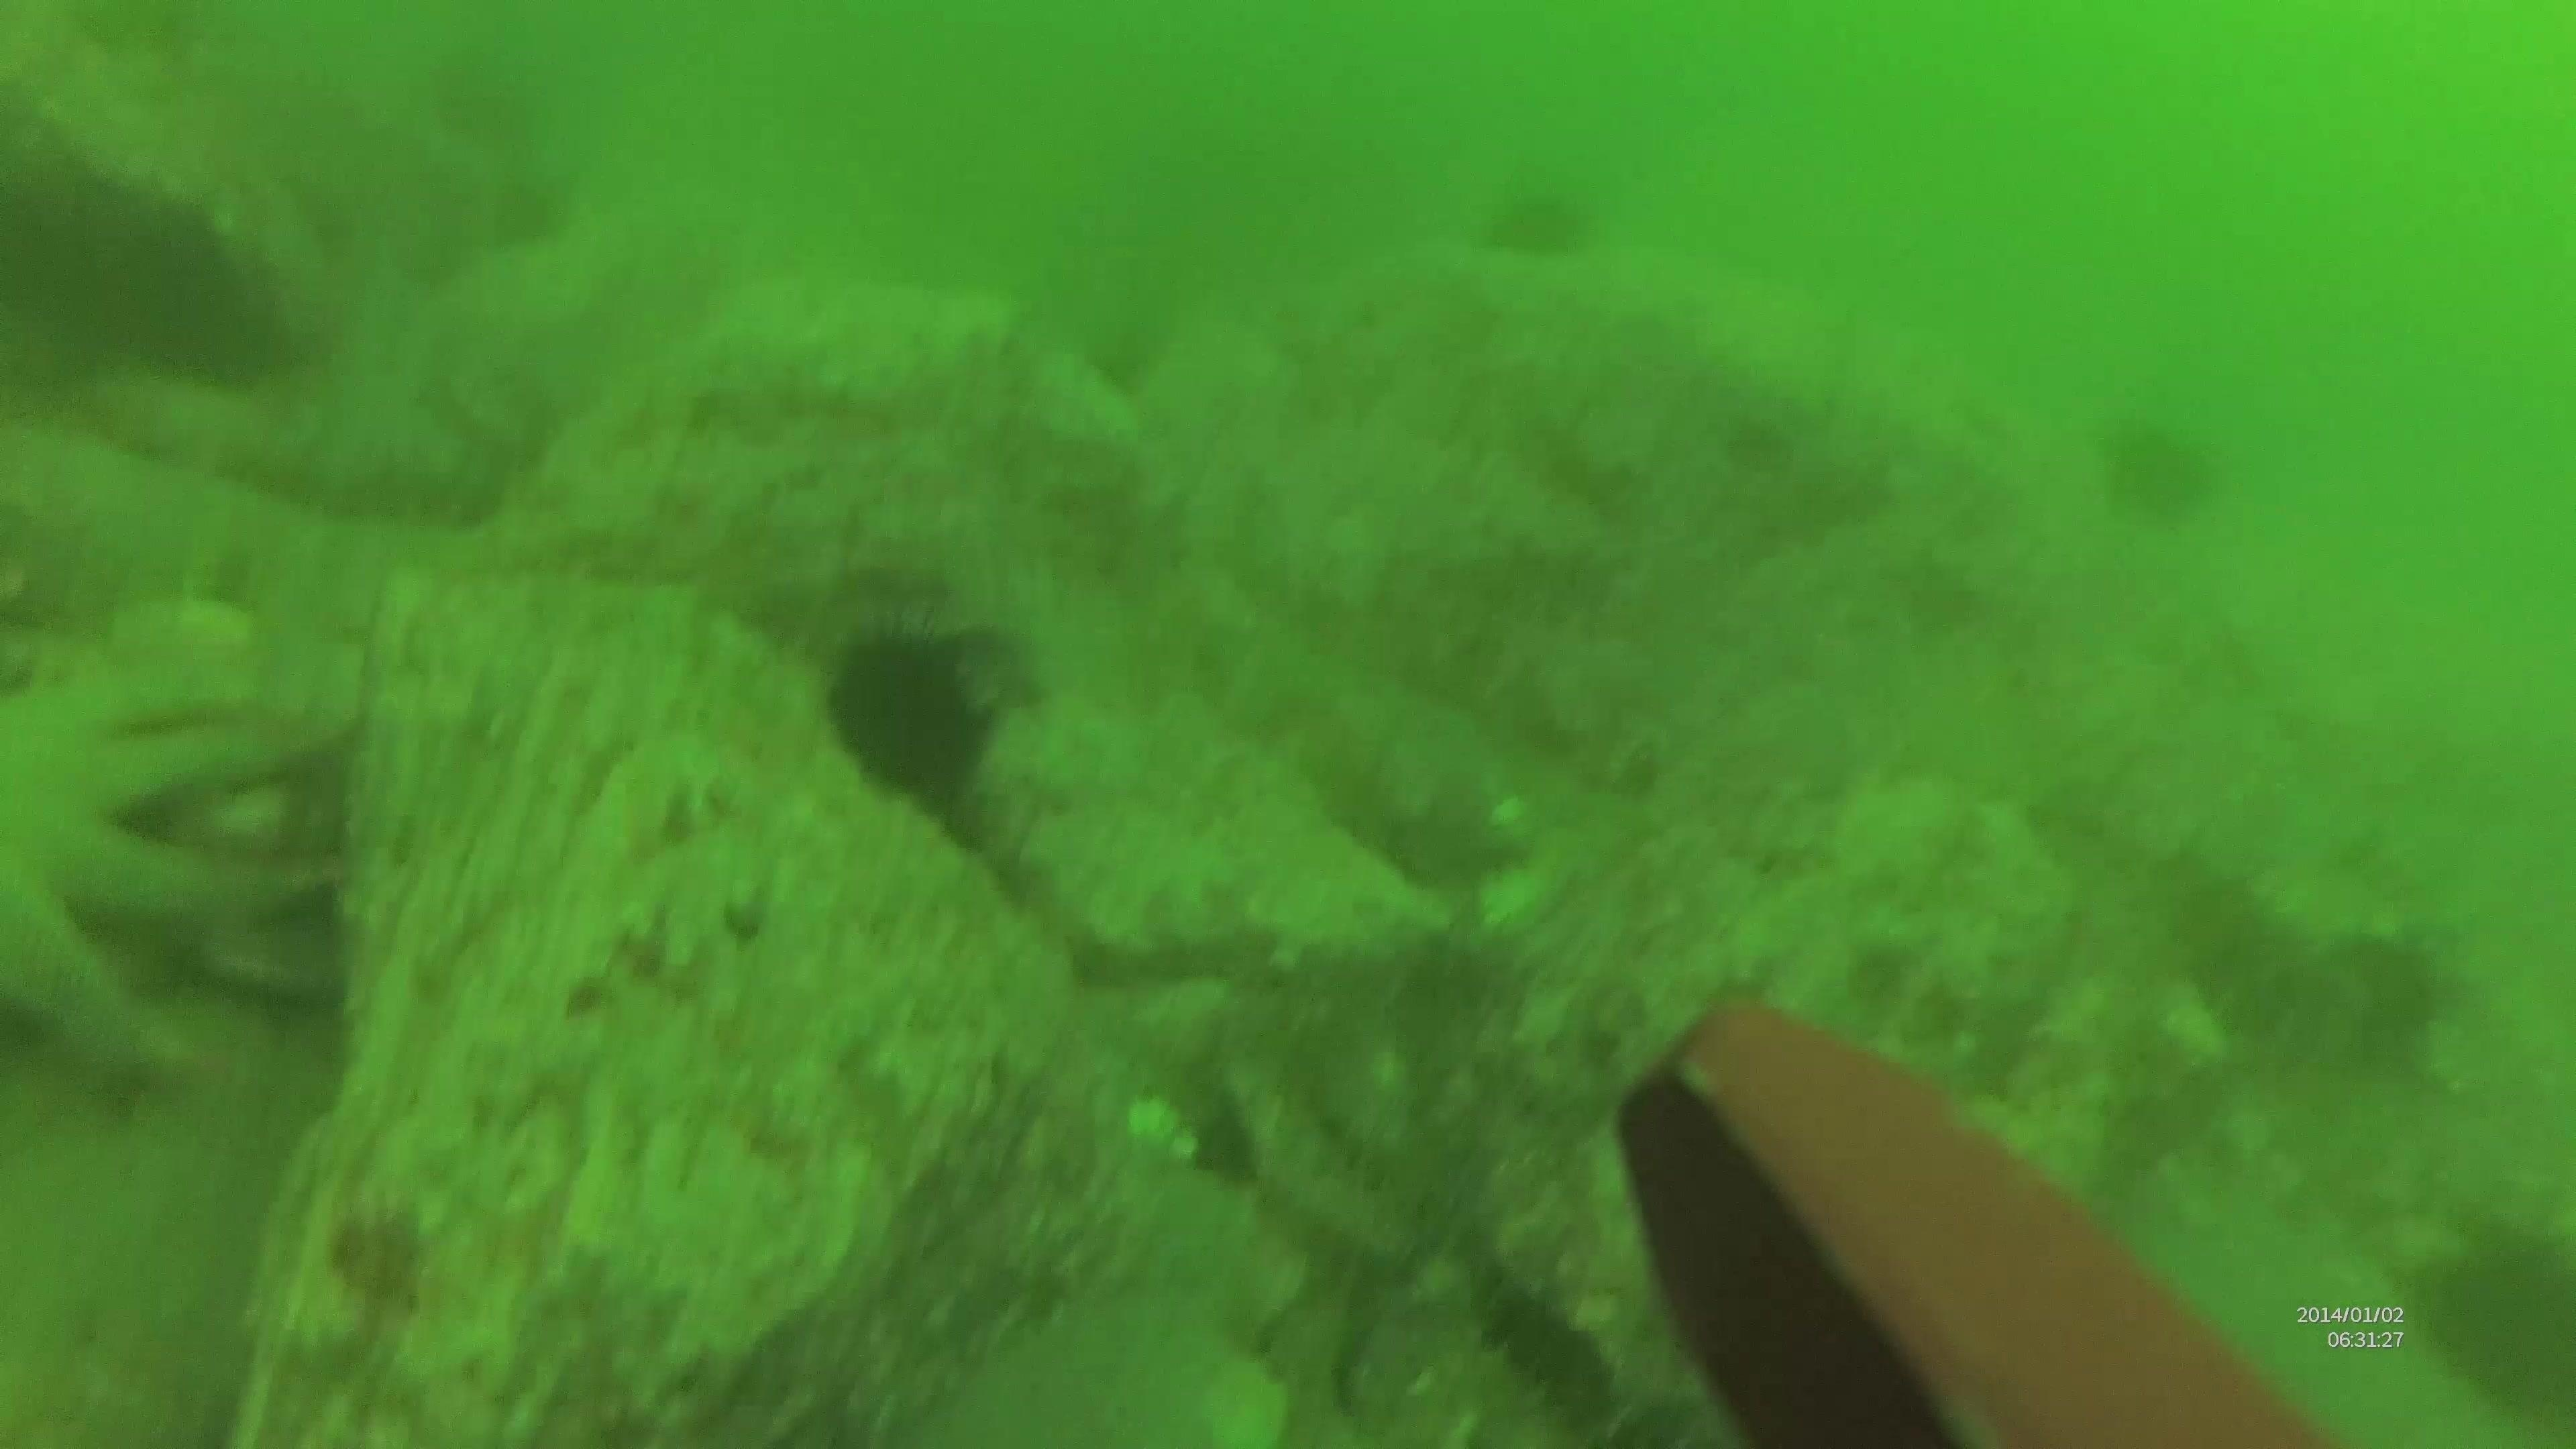echinus: (2387, 1205, 2572, 1437), (817, 616, 1001, 807), (2093, 410, 2226, 529), (1502, 175, 1585, 264)
starfish: (0, 639, 340, 1092)
